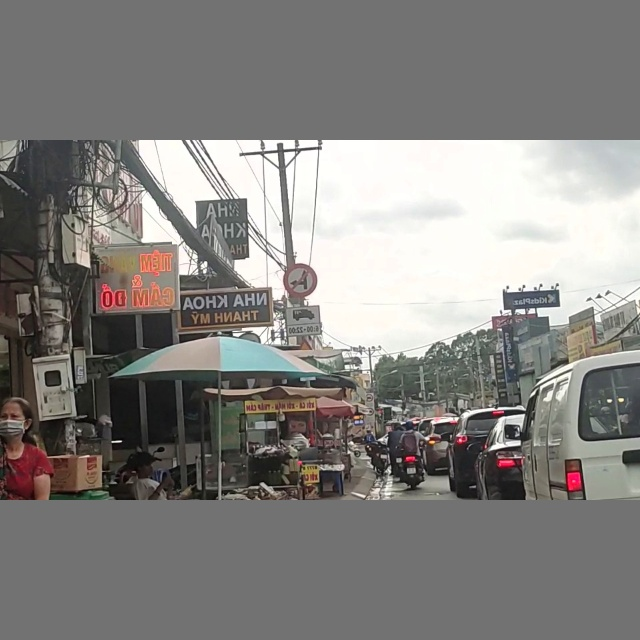P.139: (284, 264, 316, 297)
S.505a*Xe tai: (287, 306, 321, 337)
